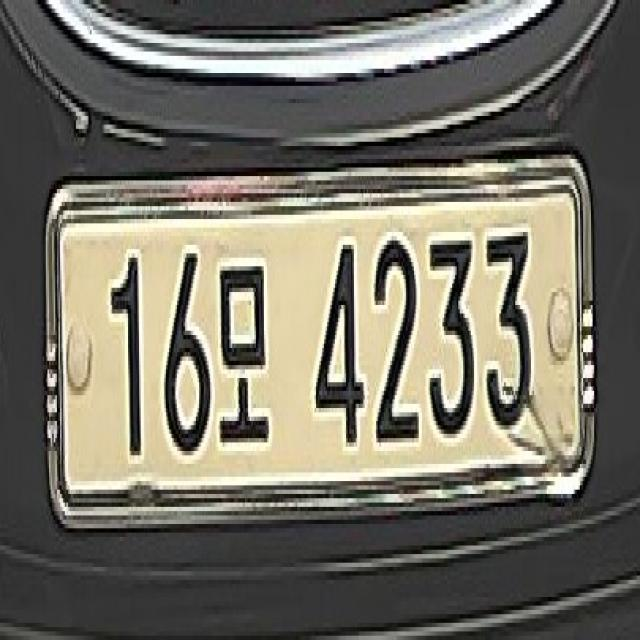1: (106, 245, 158, 464)
2: (370, 219, 425, 460)
3: (483, 215, 539, 460), (425, 219, 482, 447)
4: (313, 228, 370, 460)
6: (158, 241, 215, 468)
license_plate: (37, 125, 600, 550)
mo: (215, 249, 275, 468)
